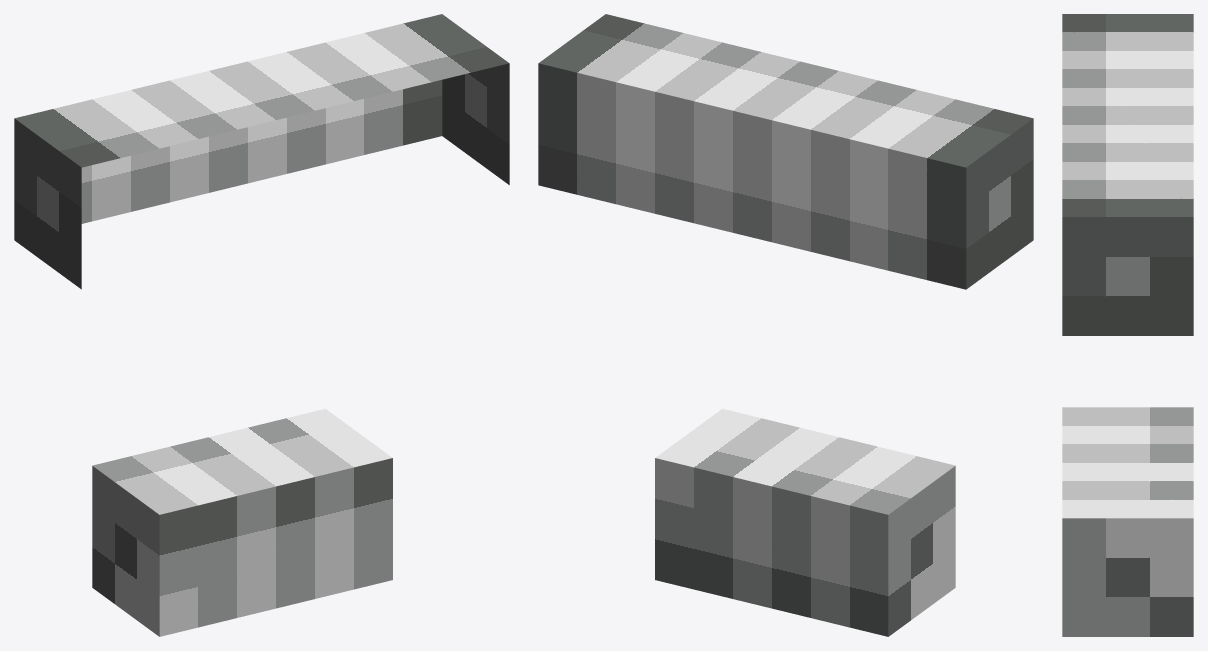
The model's file is mechanical_calculator_movable.obj.
3 views of the same model, side by side, from view 1: azimuth 30°, elevation 25°; view 2: azimuth 150°, elevation 25°; view 3: azimuth 270°, elevation 25° (orthographic). The views are drawn at different scales.
Visible parts, largest first — view 1: c6, c7; view 2: c6, c7; view 3: c6, c7.
Part boxes in pixels (x1,y1,x2,y2): c6: [14, 14, 509, 289]; c7: [92, 408, 392, 636]; c6: [538, 14, 1033, 289]; c7: [655, 408, 955, 636]; c6: [1062, 14, 1193, 335]; c7: [1062, 407, 1193, 636].
Size of the model in its own units: 0.6875 by 0.75 by 0.1875.
